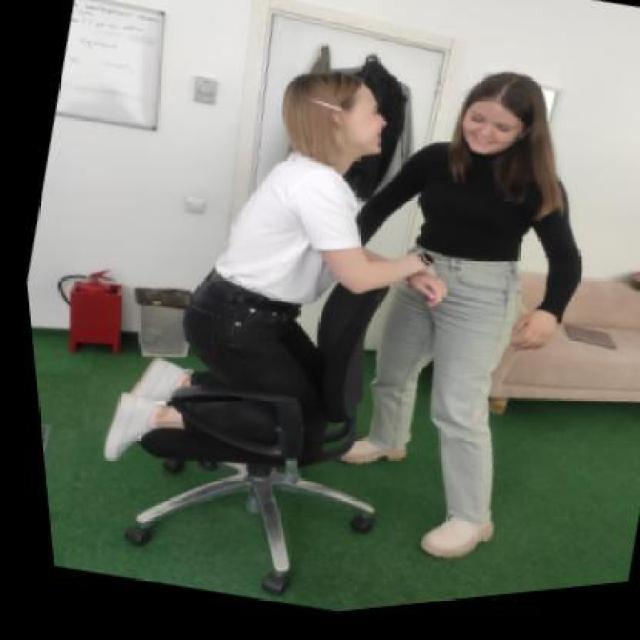chair: (72, 198, 447, 634)
